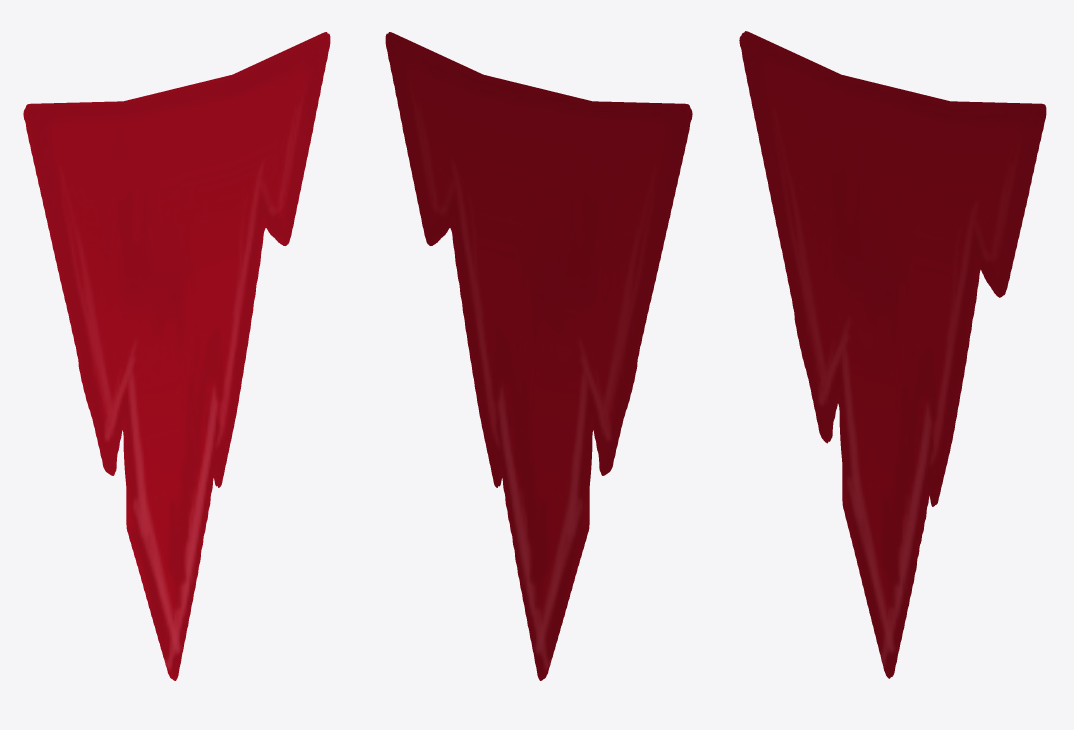
Rendered from DE_House_Mod_Part_30c.fbx.
3 renders of one model, left to right at view 1: azimuth 30°, elevation 25°; view 2: azimuth 150°, elevation 25°; view 3: azimuth 330°, elevation 25°, orthographic.
Parts seen in each view (by area): view 1: DE_House_Mod_Part_30c; view 2: DE_House_Mod_Part_30c; view 3: DE_House_Mod_Part_30c.
Part boxes in pixels (x1=…): DE_House_Mod_Part_30c: x1=23, y1=32, x2=330, y2=680; DE_House_Mod_Part_30c: x1=385, y1=32, x2=692, y2=680; DE_House_Mod_Part_30c: x1=739, y1=31, x2=1046, y2=678.
Bounding box in the file's own units: 0.7658 × 1.44 × 0.00929.
